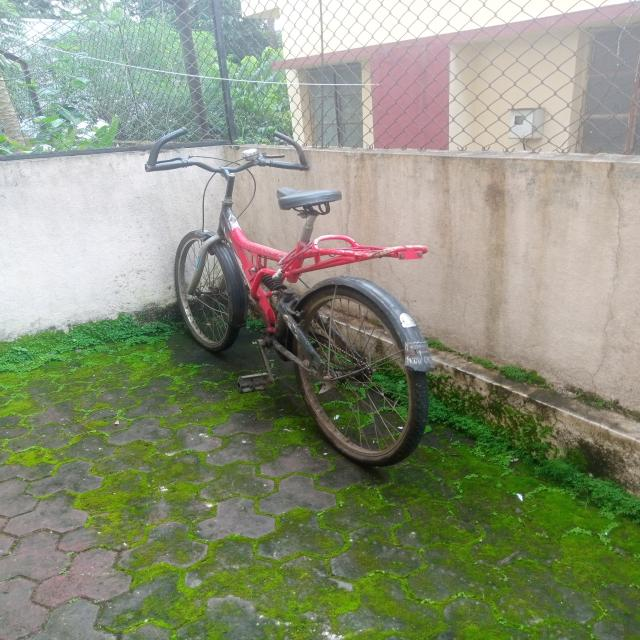bicycle: (137, 123, 452, 470)
